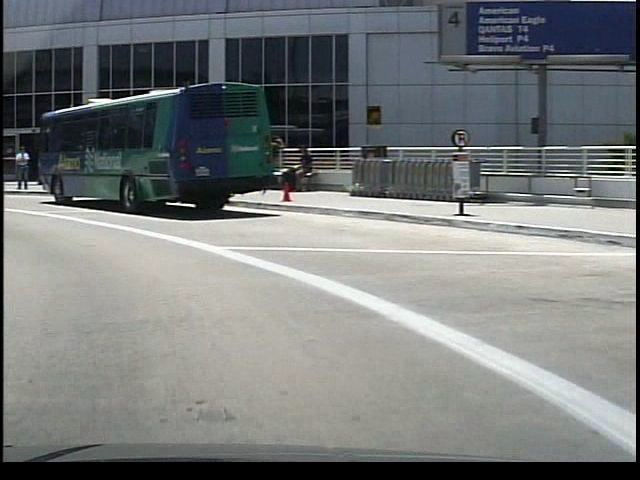person: (278, 143, 308, 197), (12, 143, 29, 195)
